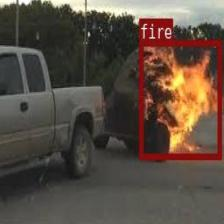fire: (138, 39, 220, 159)
